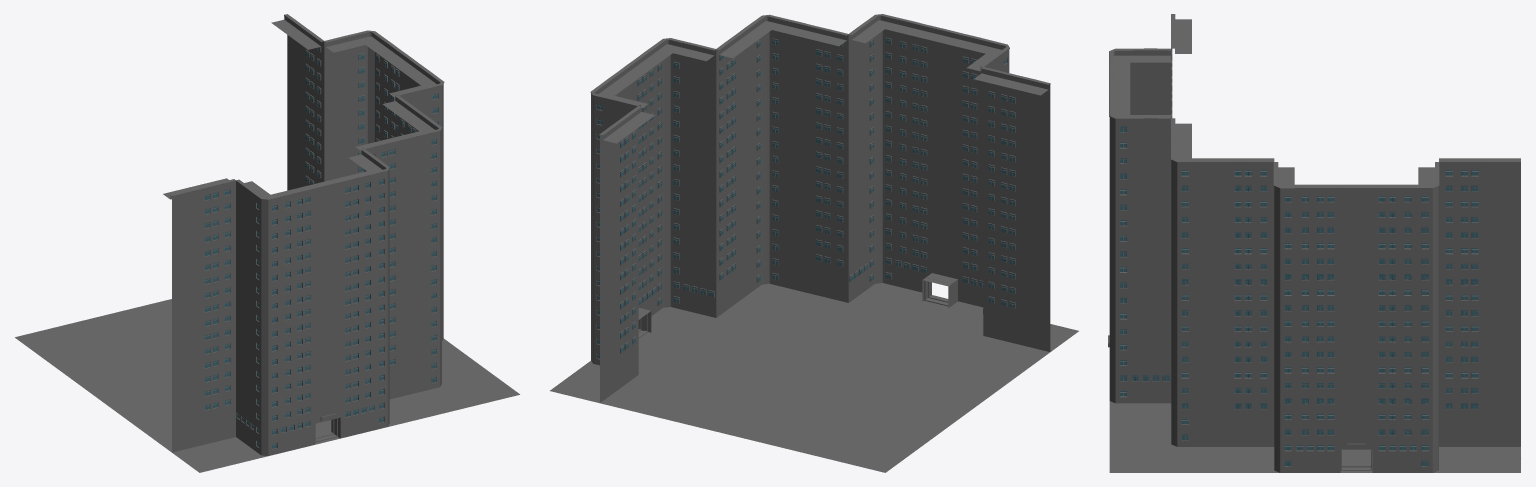
The model's file is Ext_Building_ApartmentBlock_B_01.fbx.
The picture shows the model from 3 angles, left to right: view 1: azimuth 30°, elevation 25°; view 2: azimuth 150°, elevation 25°; view 3: azimuth 270°, elevation 25°; orthographic projection. The views are drawn at different scales.
Visible parts, largest first — view 1: pPlane25; view 2: pPlane25; view 3: pPlane25.
Boxes of the visible parts, left/top/right/bottom form: pPlane25: left=15, top=14, right=519, bottom=472; pPlane25: left=550, top=14, right=1078, bottom=472; pPlane25: left=1108, top=14, right=1520, bottom=472.
Size of the model in its own units: 6021 by 4589 by 6031.
